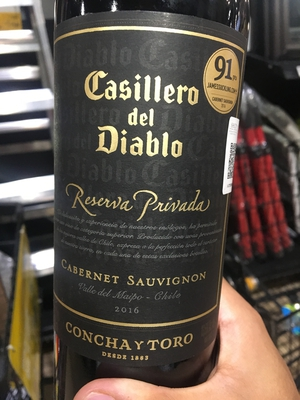casillero del diablo reserva privada cabernet sauvignon: (49, 3, 246, 400)
